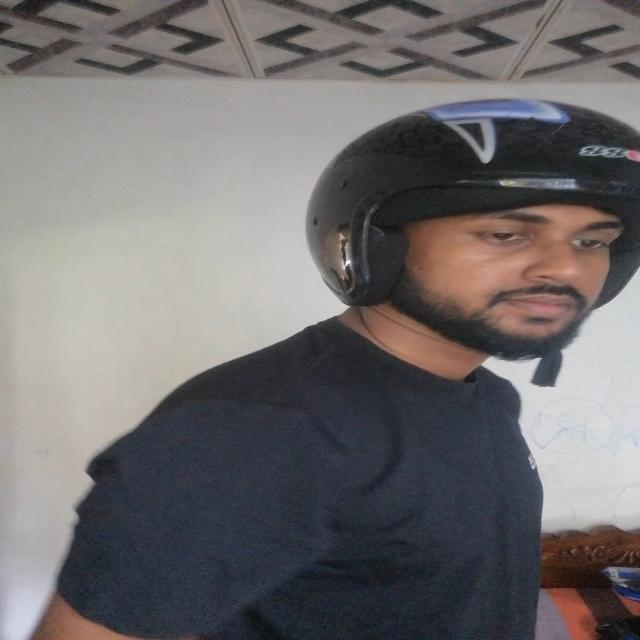Helmet_Wearer: (263, 75, 640, 406)
Person: (55, 77, 640, 640)
